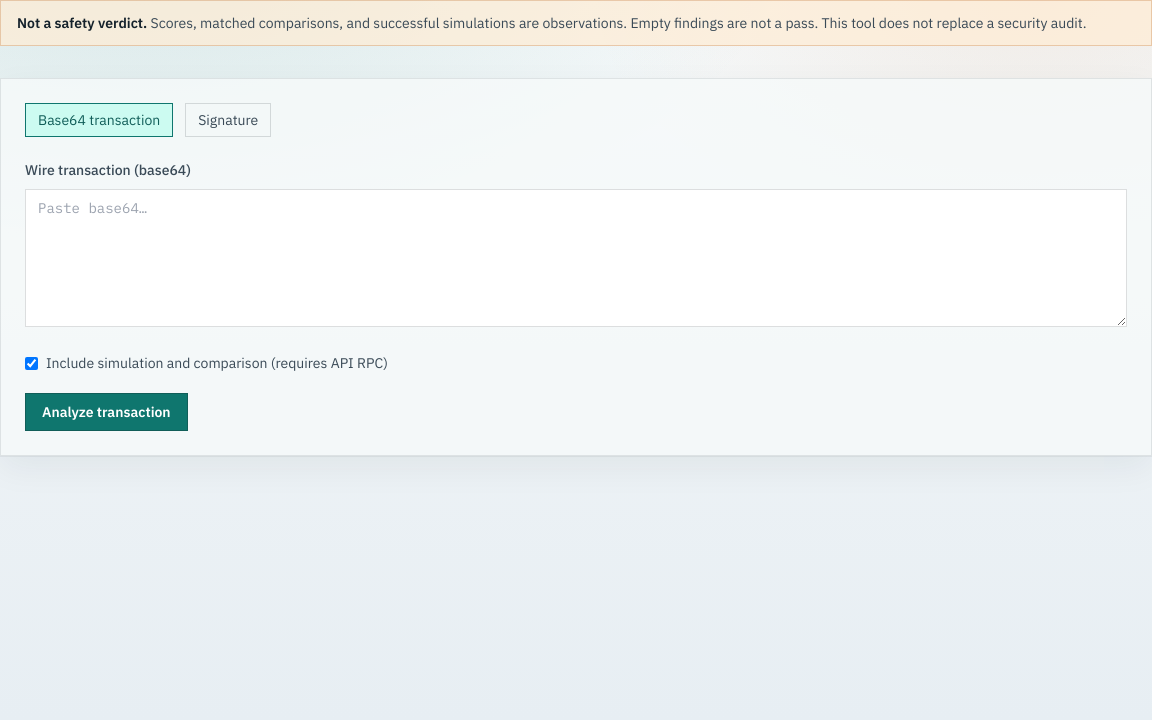
it: AnalyzeForm › analyzes by signature mode
Click the button "Signature". click: (228, 120)
box: [185, 103, 271, 137]
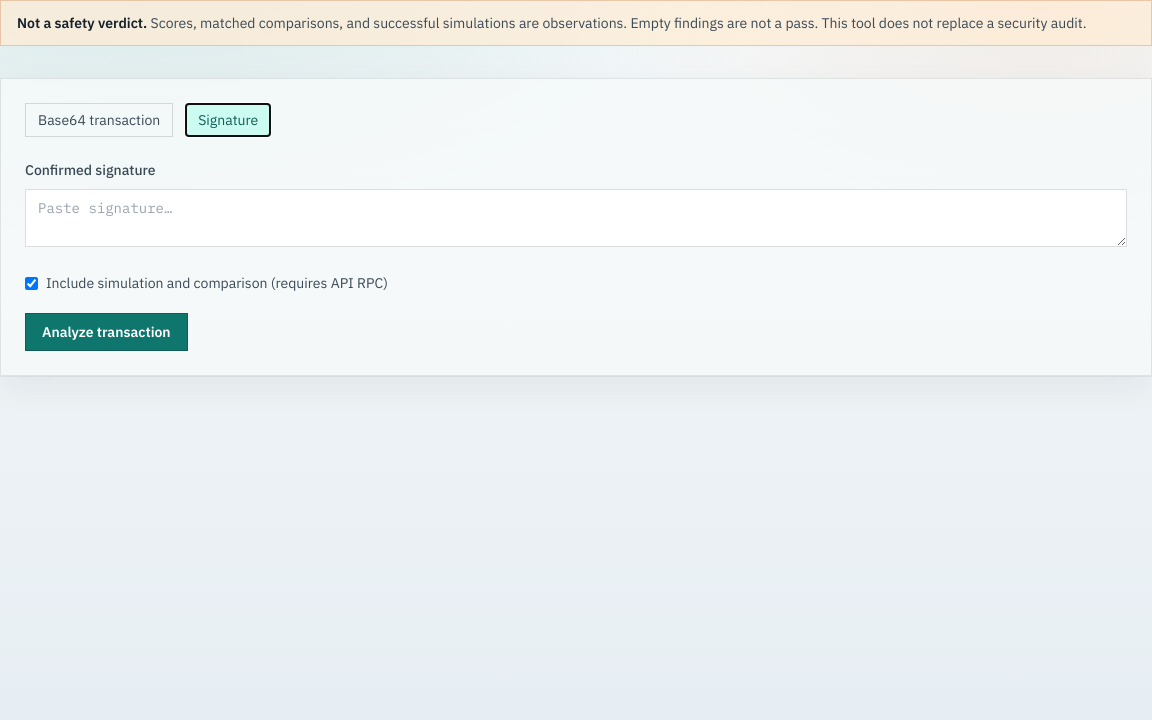
Type "sig123" into the text box with placeholder "Paste signature…". click: (576, 218)
box: [25, 189, 1127, 247]
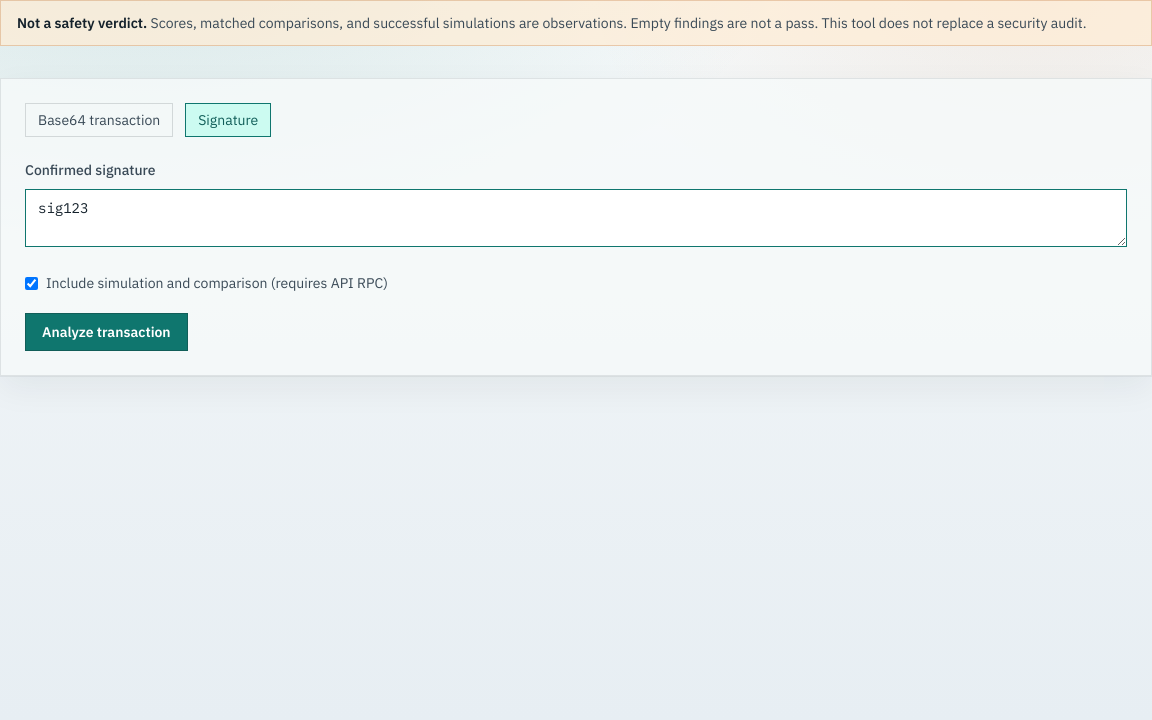
Click the button "Analyze transaction". click: (106, 332)
box: [25, 313, 188, 351]
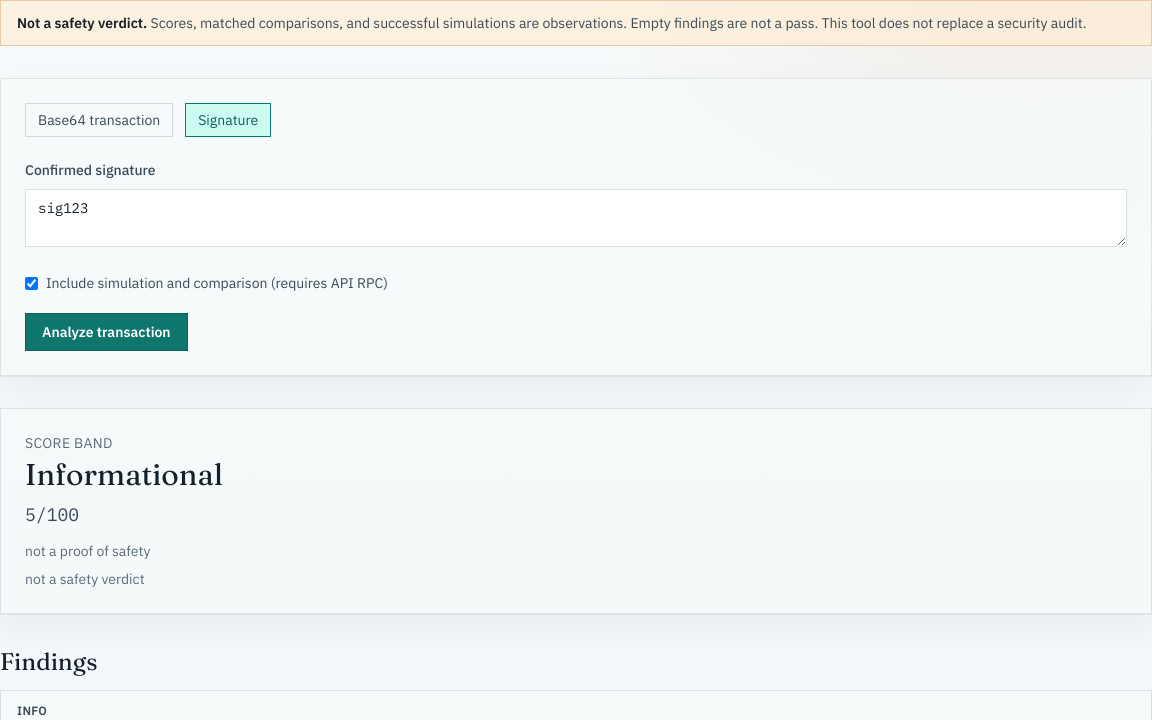
Result: the heading "Informational" is shown at [25, 456, 223, 493]
